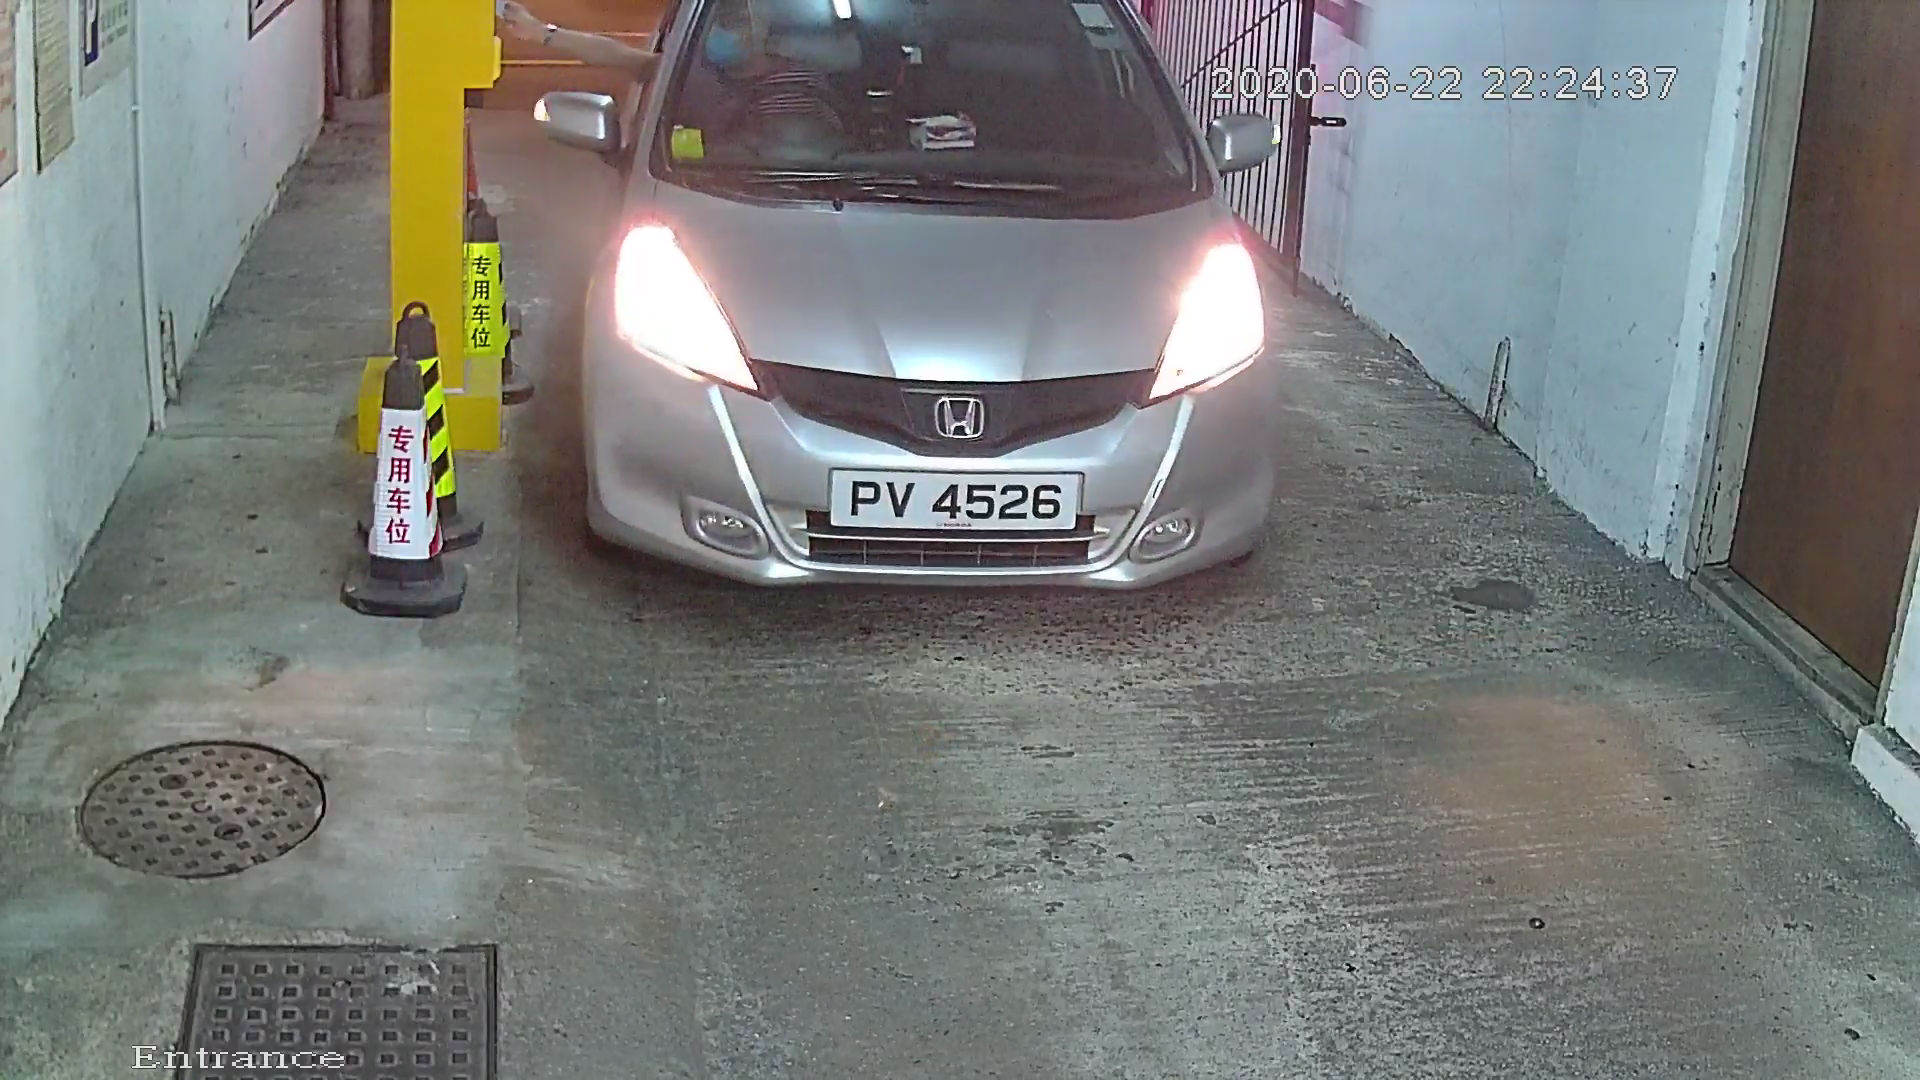privatecar: (541, 3, 1346, 676)
